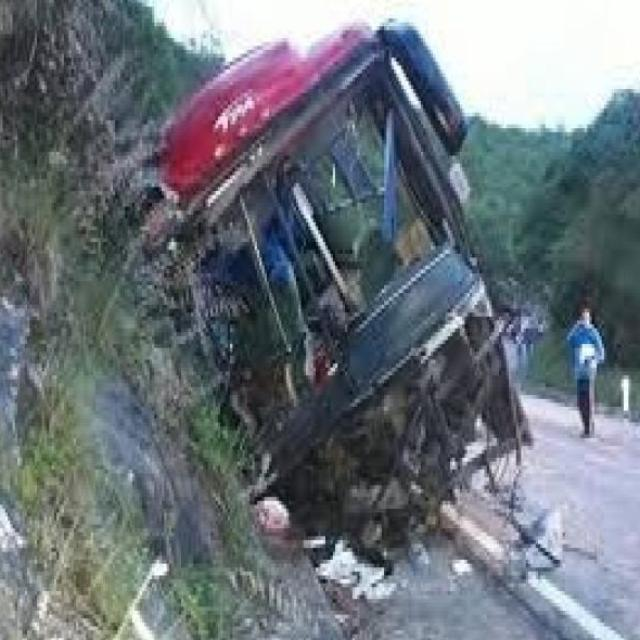accident: (123, 15, 545, 569)
